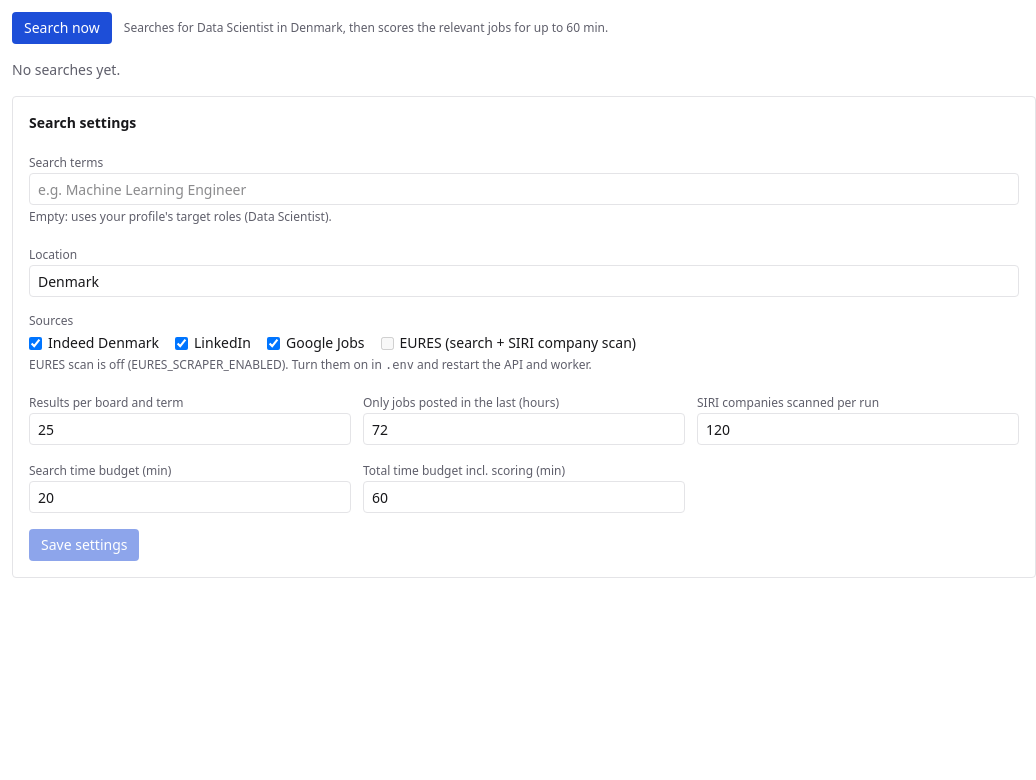
Test: DiscoverView › saves settings and validates numbers
Replace the text in the field labelled "Results per board and term" with "500" at (190, 429), box [29,413,351,445]
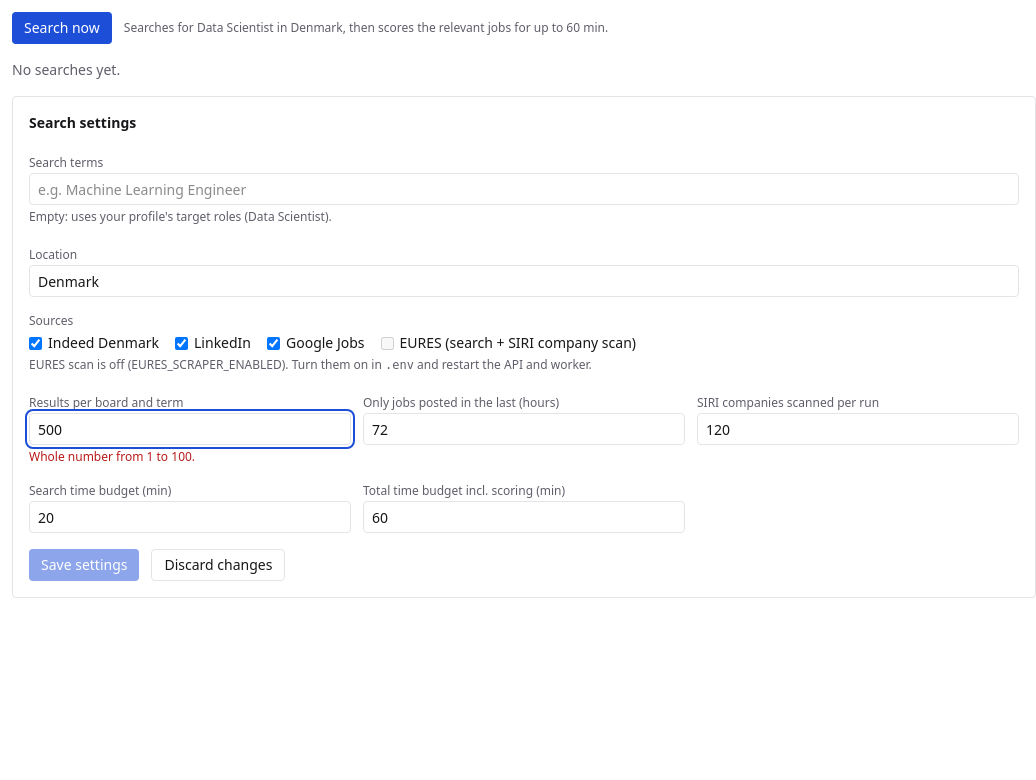
Expected: the button "Save settings" is disabled, [29,549,140,581]
Now the text "Whole number from 1 to 100." is shown, box [29,448,195,465]
Replace the text in the field labelled "Results per board and term" with "10" at (190, 429), box [29,413,351,445]
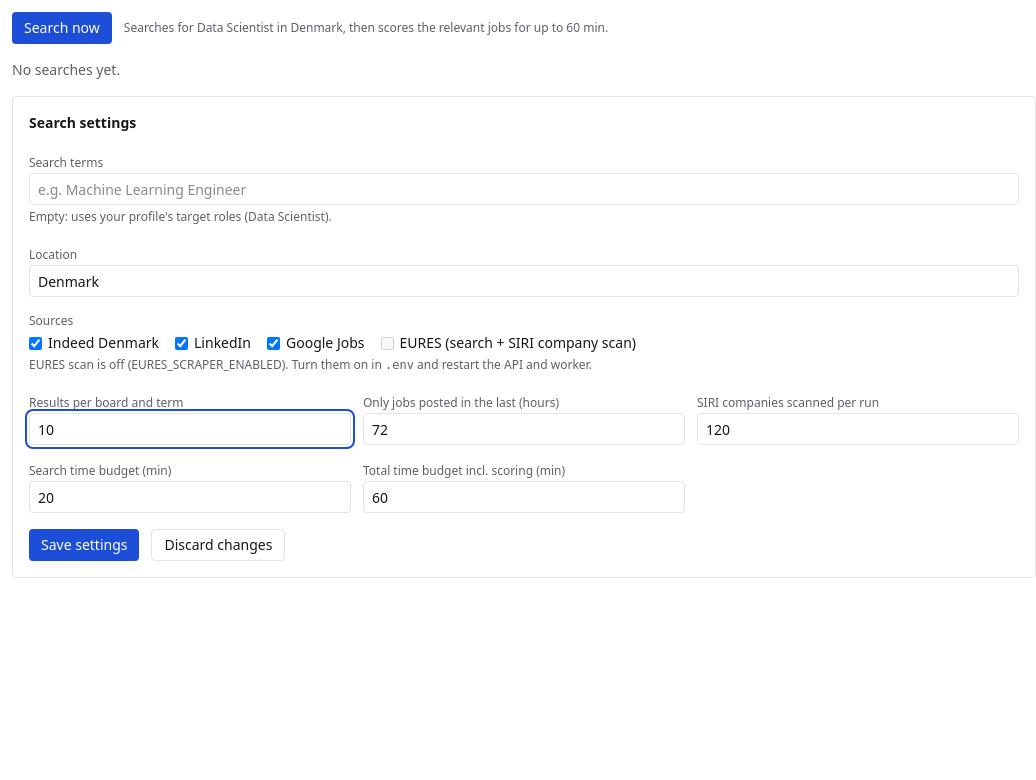
Click the checkbox labelled "Google Jobs".
click(274, 343)  # box [267,336,280,350]
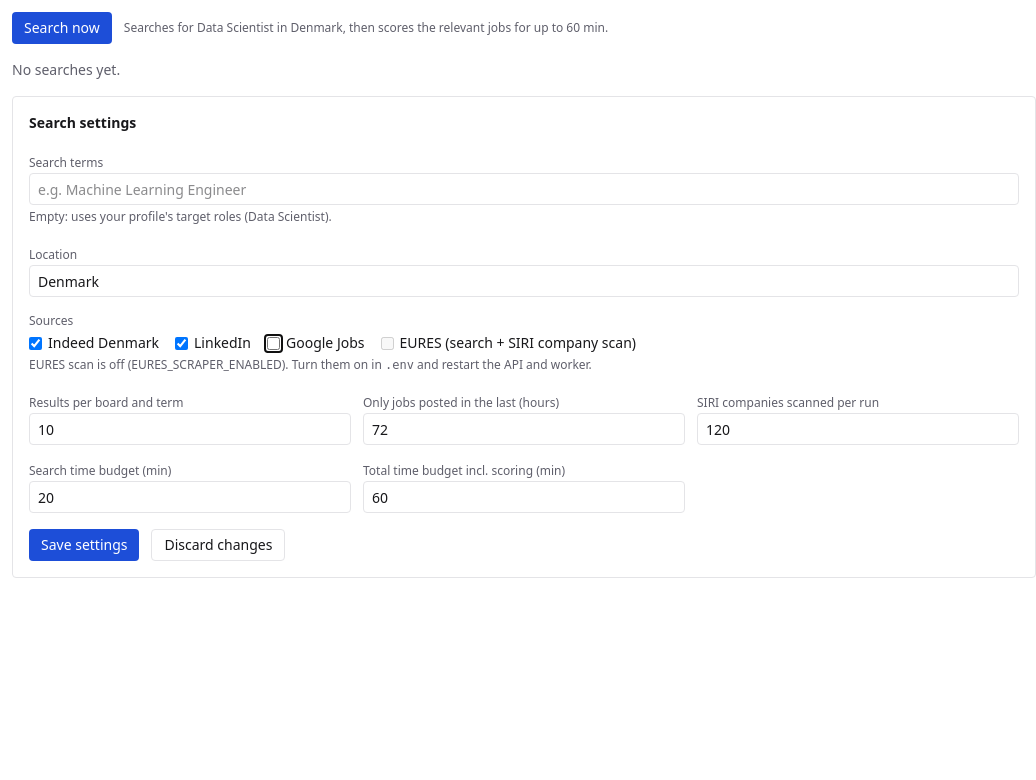
Type "AI Engineer" into the field labelled "Search terms".
click(524, 189); type("AI Engineer")  # box [29,173,1019,205]
Then press Enter
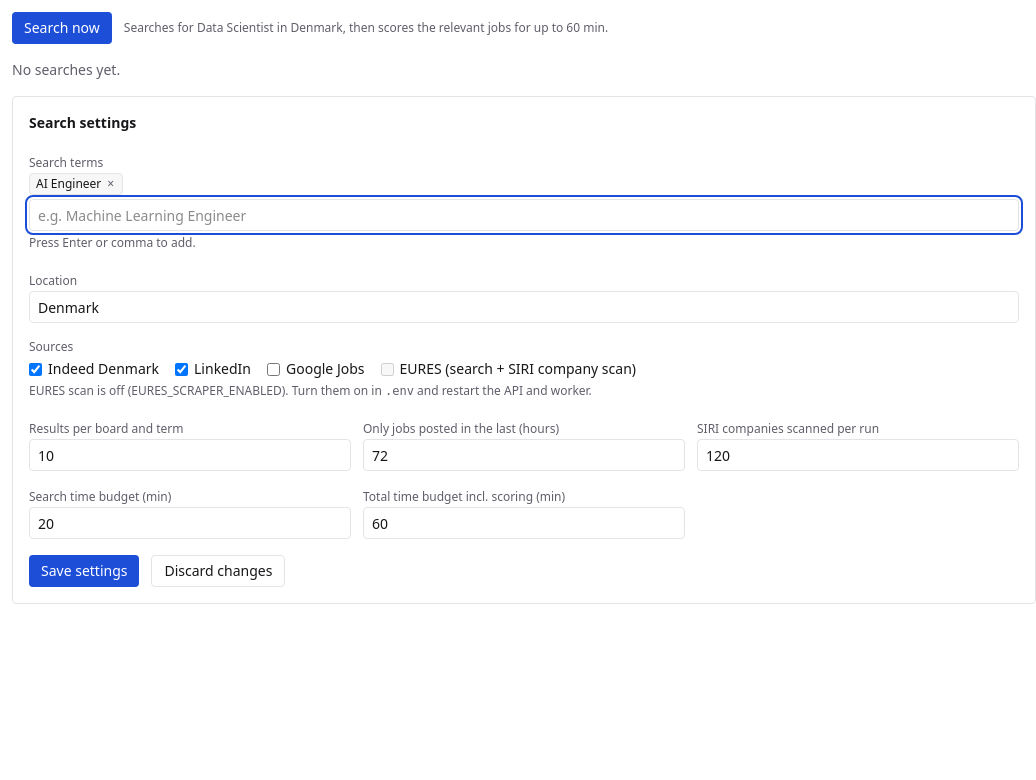
Click the button "Save settings".
click(84, 571)  # box [29,555,140,587]
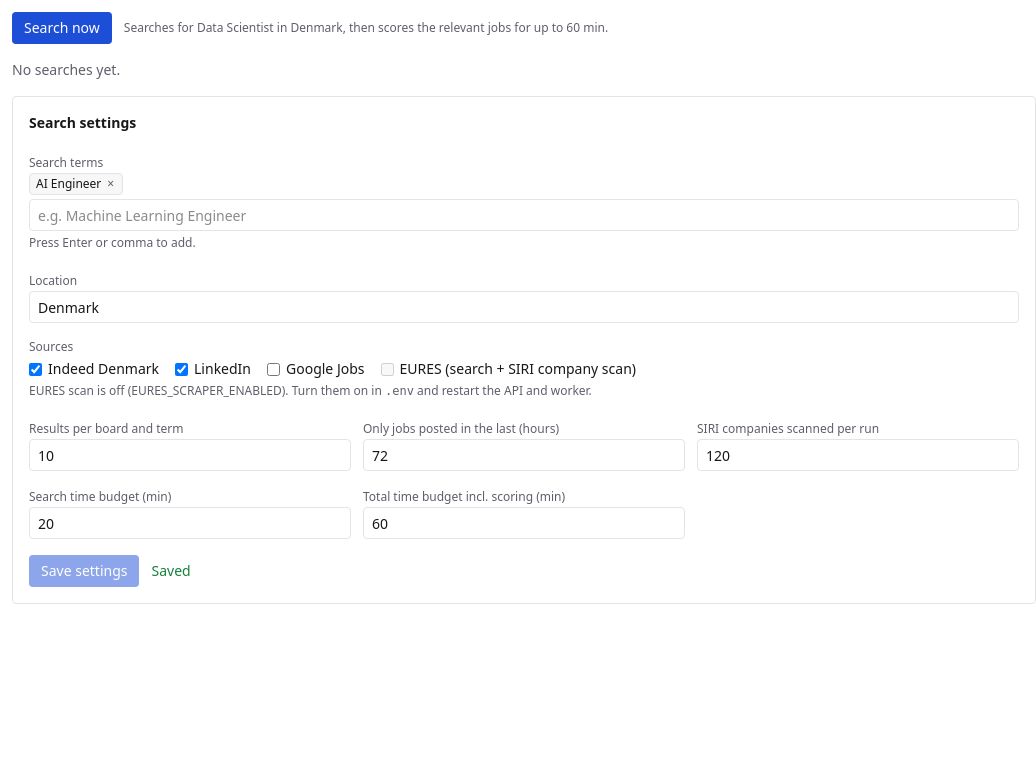
Now the text "Saved" is shown, box [152,561,191,580]
